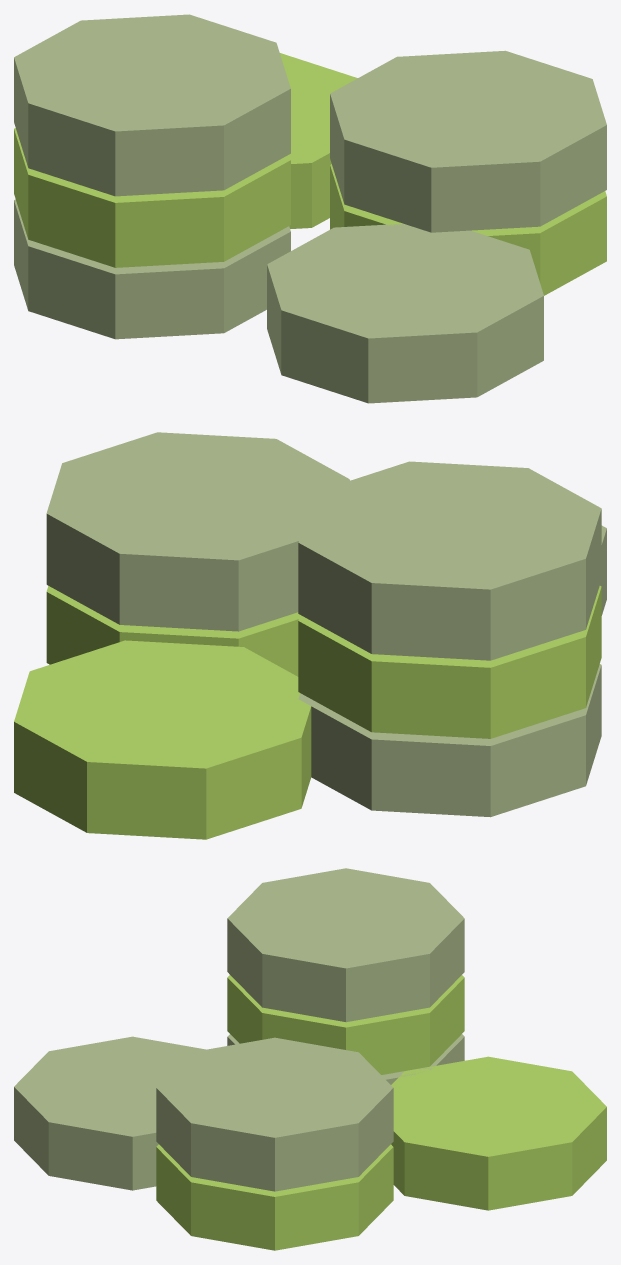
The model's file is gold.glb.
3 renders of one model, top to bottom at view 1: azimuth 30°, elevation 25°; view 2: azimuth 150°, elevation 25°; view 3: azimuth 270°, elevation 25°, orthographic. The views are drawn at different scales.
Parts seen in each view (by area): view 1: C02, C11, C20, C01, C00, C10, C30; view 2: C02, C30, C11, C01, C00, C10; view 3: C02, C11, C30, C20, C10, C01, C00.
Part boxes in pixels (x1,y1,x2,y2): C02: (14,14,290,196); C11: (330,50,606,232); C20: (267,223,543,403); C01: (14,128,290,267); C00: (14,199,290,339); C10: (330,164,606,295); C30: (280,53,357,228); C02: (298,461,601,660); C30: (14,640,311,839); C11: (46,432,349,631); C01: (298,586,601,738); C00: (298,664,601,817); C10: (46,586,299,676); C02: (227,868,464,1022); C11: (156,1037,393,1191); C30: (391,1056,606,1210); C20: (14,1036,205,1190); C10: (156,1144,393,1250); C01: (227,975,464,1074); C00: (227,1034,464,1084).
Size of the model in its own units: 0.42 by 0.16 by 0.5.
